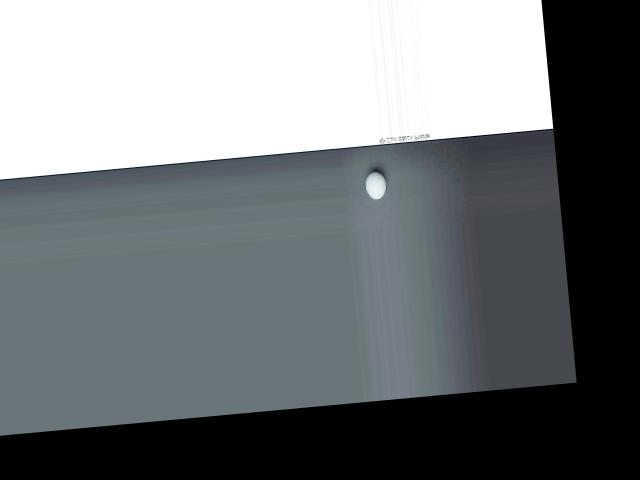egg: (364, 170, 387, 200)
